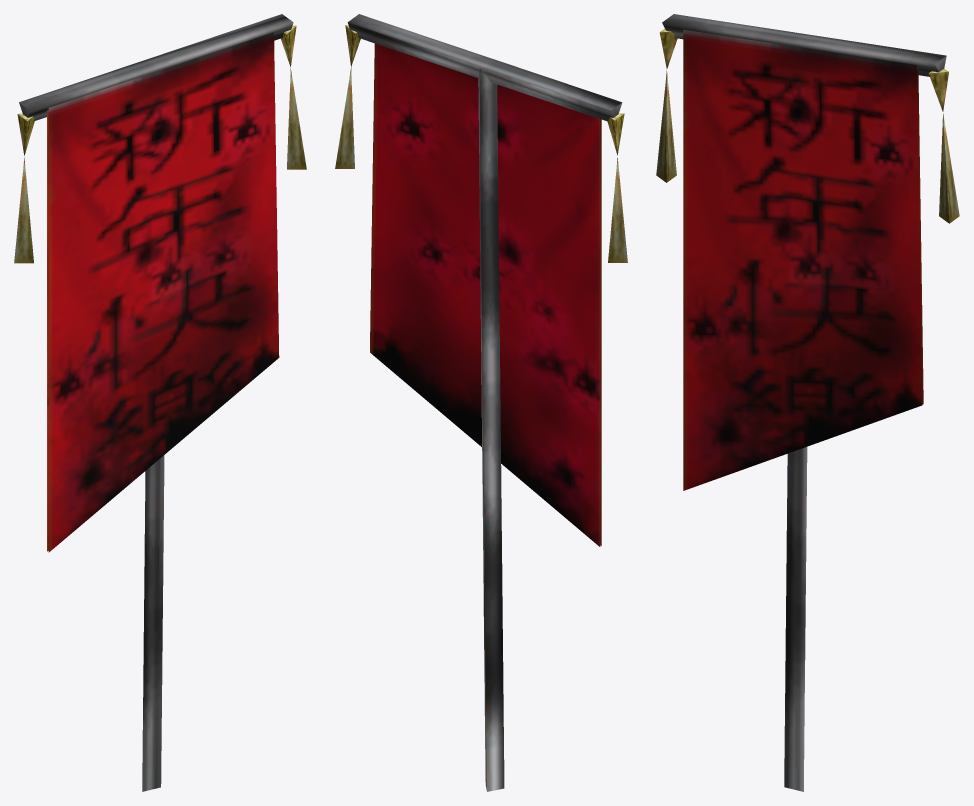
File: USA - Prop - Decorative Banners - Damaged - PADecBnnr_D.glb
3 views of the same model, side by side, from view 1: azimuth 30°, elevation 25°; view 2: azimuth 150°, elevation 25°; view 3: azimuth 330°, elevation 25° (orthographic). The views are drawn at different scales.
Visible parts, largest first — view 1: PADECBNNR_D; view 2: PADECBNNR_D; view 3: PADECBNNR_D.
Boxes of the visible parts, x1,y1,x2,y2 form: PADECBNNR_D: (14, 14, 306, 791); PADECBNNR_D: (335, 14, 627, 791); PADECBNNR_D: (656, 14, 959, 791).
Bounding box in the file's own units: 12.2 × 29.81 × 0.839.
Materials: 1 (1 with a texture image).
